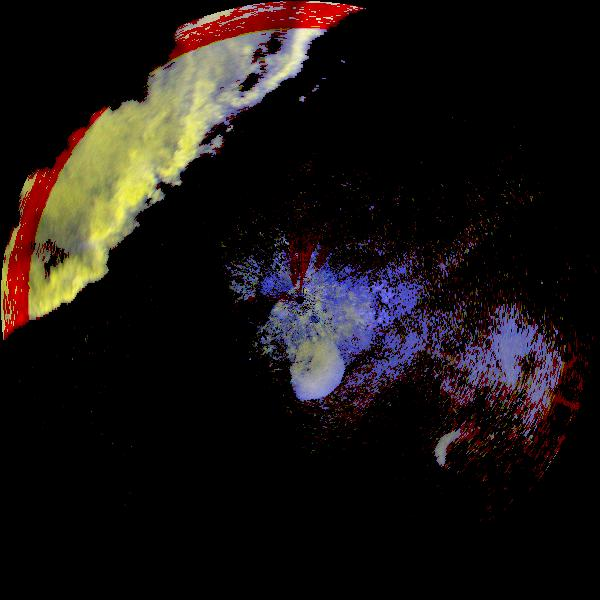roost: (266, 323, 359, 416), (324, 266, 405, 347), (427, 423, 493, 489)
